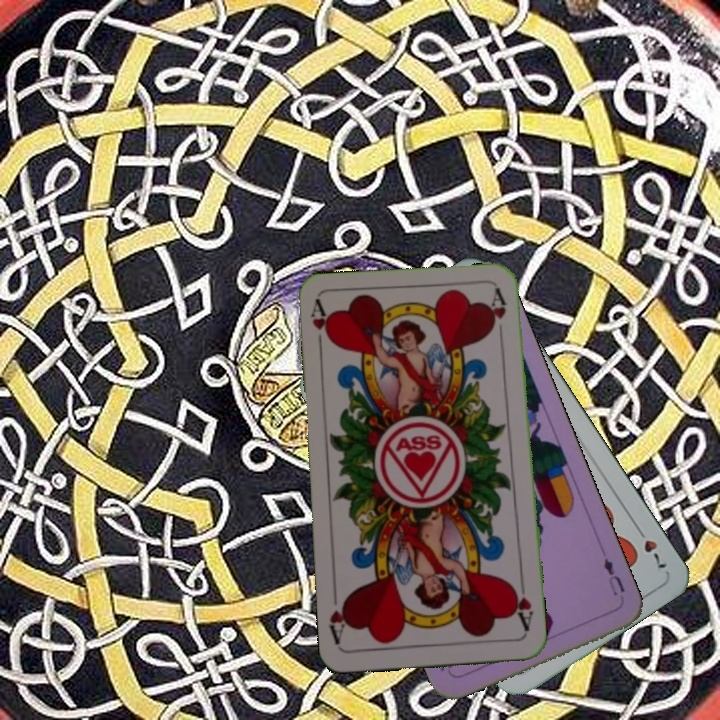EU: (599, 554, 628, 599)
H7: (631, 521, 671, 571)
HA: (306, 298, 335, 357), (508, 577, 536, 634)
